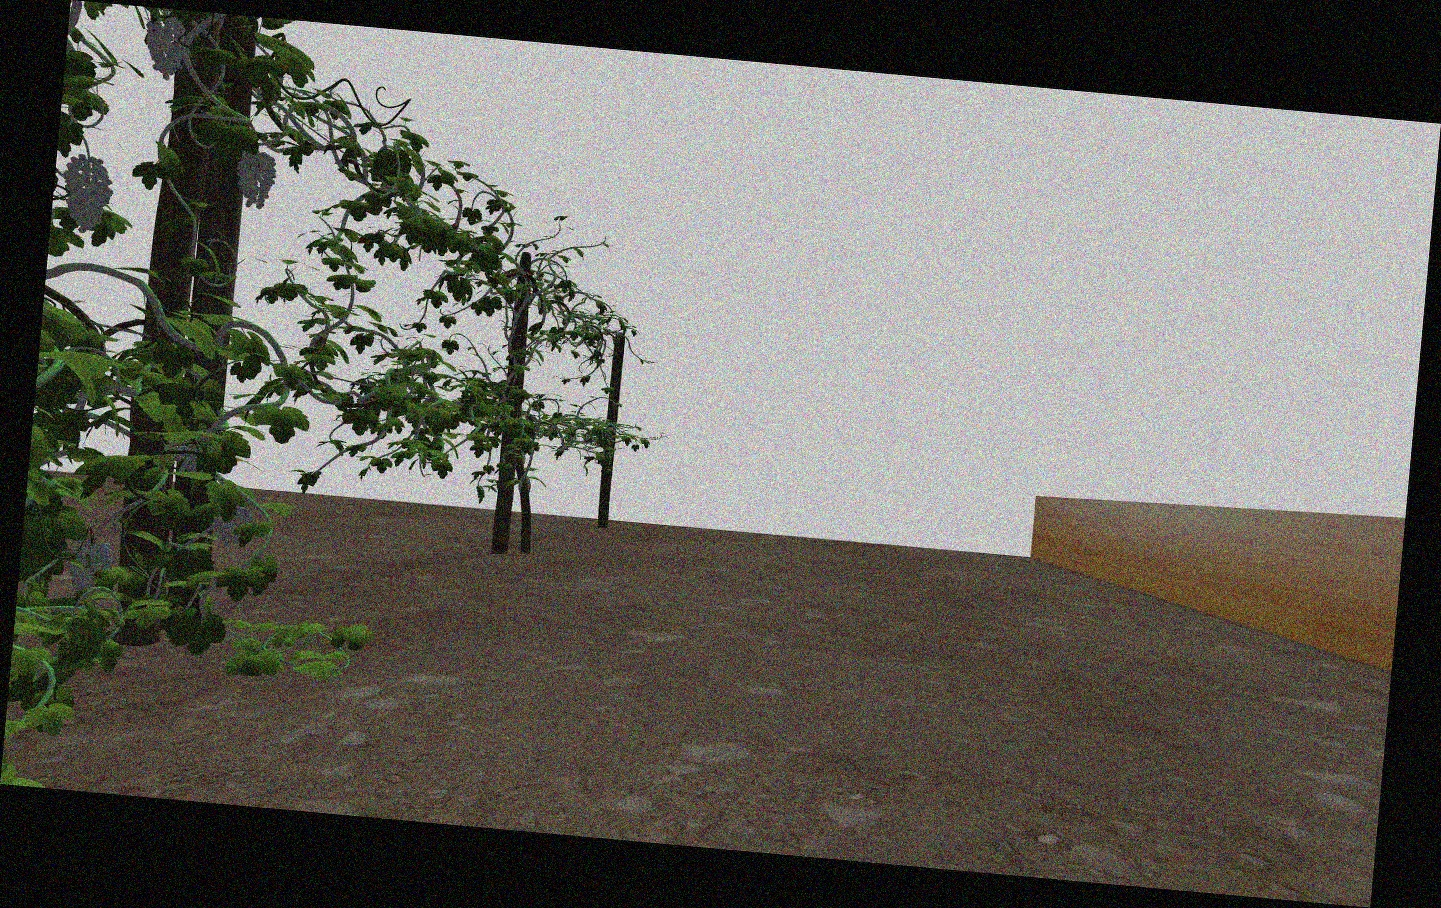grape: (61, 154, 113, 236), (143, 14, 190, 81), (67, 539, 113, 596), (234, 151, 277, 209), (216, 503, 254, 547)
